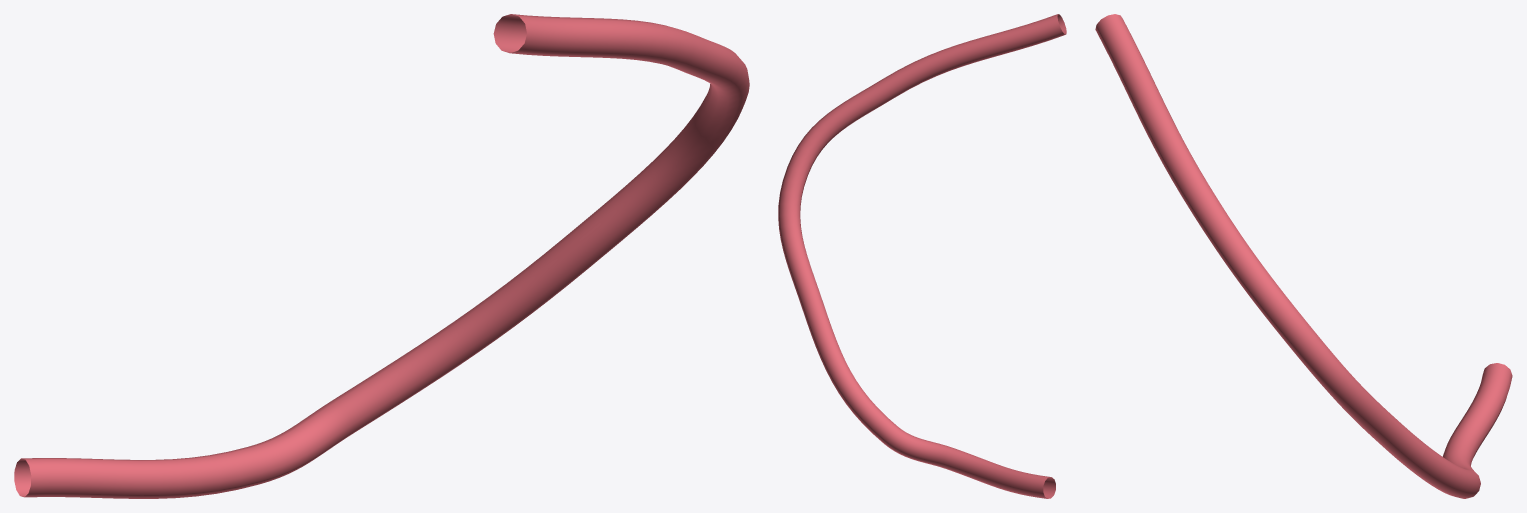
The picture shows the model from 3 angles, left to right: view 1: azimuth 30°, elevation 25°; view 2: azimuth 150°, elevation 25°; view 3: azimuth 270°, elevation 25°; orthographic projection. The views are drawn at different scales.
Parts seen in each view (by area): view 1: ZA_85e237033569d09a; view 2: ZA_85e237033569d09a; view 3: ZA_85e237033569d09a.
Part boxes in pixels (left/top/right/bottom): ZA_85e237033569d09a: left=14, top=14, right=749, bottom=498; ZA_85e237033569d09a: left=778, top=14, right=1066, bottom=498; ZA_85e237033569d09a: left=1095, top=14, right=1512, bottom=498.
Bounding box in the file's own units: 0.0243 × 0.0246 × 0.0195.
